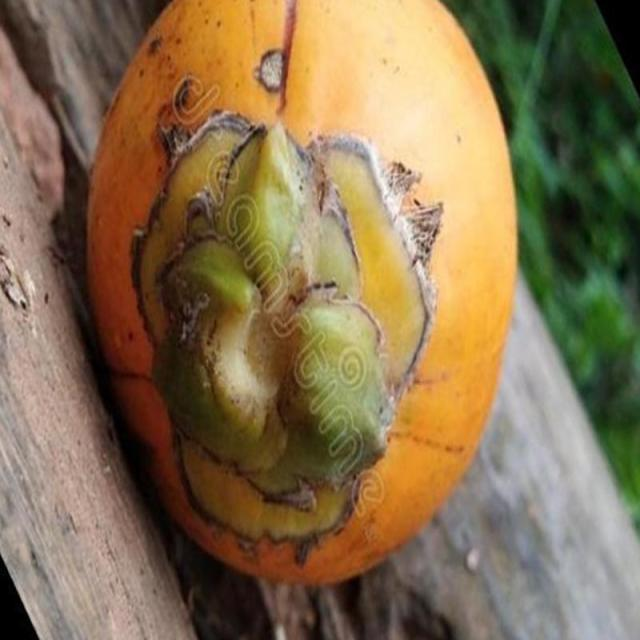good: (87, 0, 520, 590)
